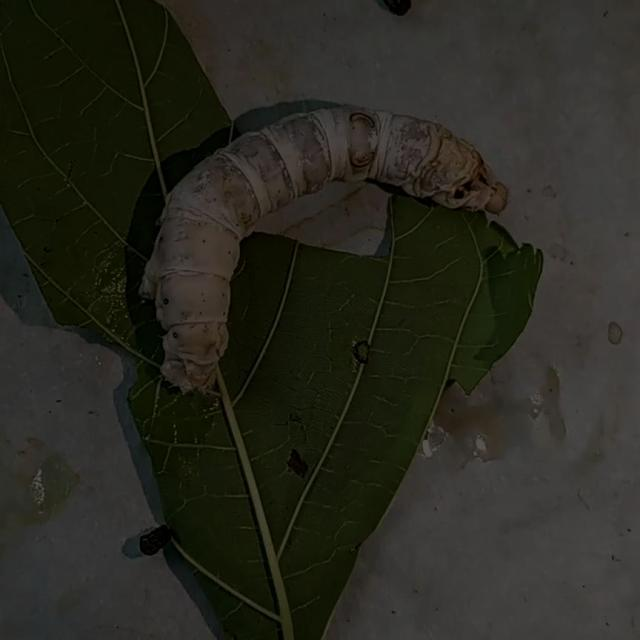Grasserie: (123, 82, 520, 412)
